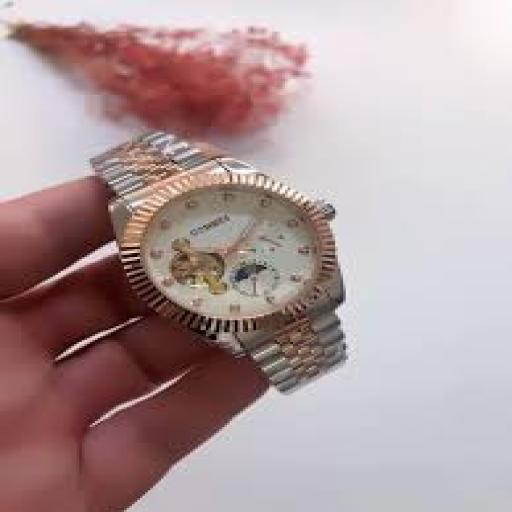KolSaati: (62, 109, 410, 406)
